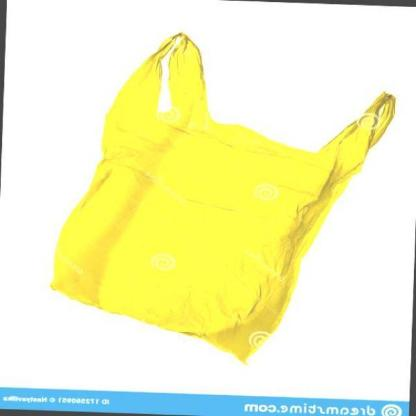Plastic Bag: (46, 32, 396, 366)
